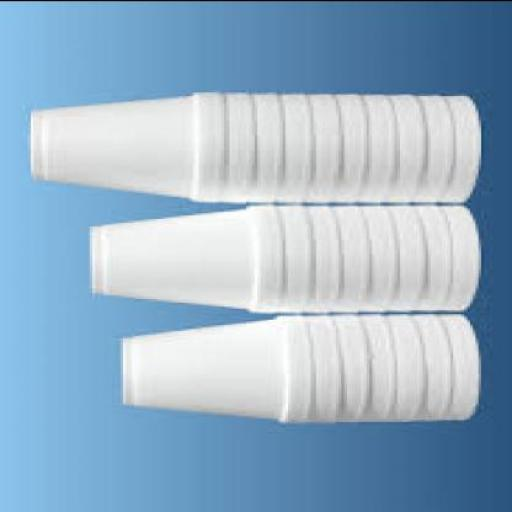paper: (31, 89, 481, 201), (111, 311, 476, 426), (84, 201, 478, 307), (25, 89, 227, 201), (87, 201, 282, 309), (118, 313, 310, 421)
